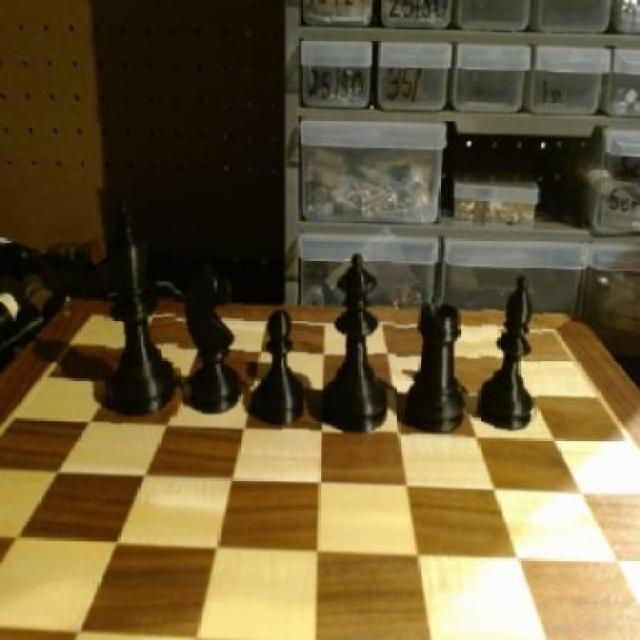bishop: (479, 272, 543, 435)
black-bishop: (101, 183, 180, 424)
black-king: (183, 258, 245, 412)
black-knight: (255, 301, 310, 434)
black-pawn: (323, 250, 396, 444)
black-queen: (409, 298, 467, 438)
